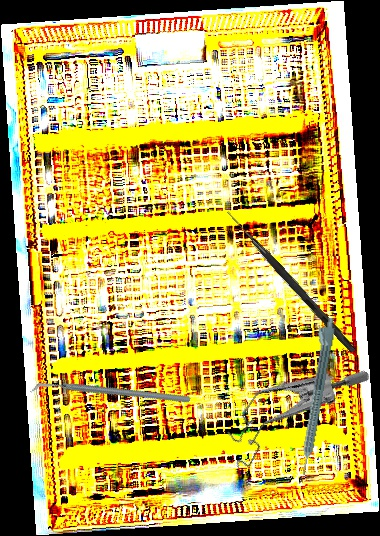Chopper: (29, 326, 192, 462)
Handpiece: (291, 316, 338, 476)
Hook Surgical: (223, 210, 358, 353)
Speculum: (213, 326, 372, 501)
